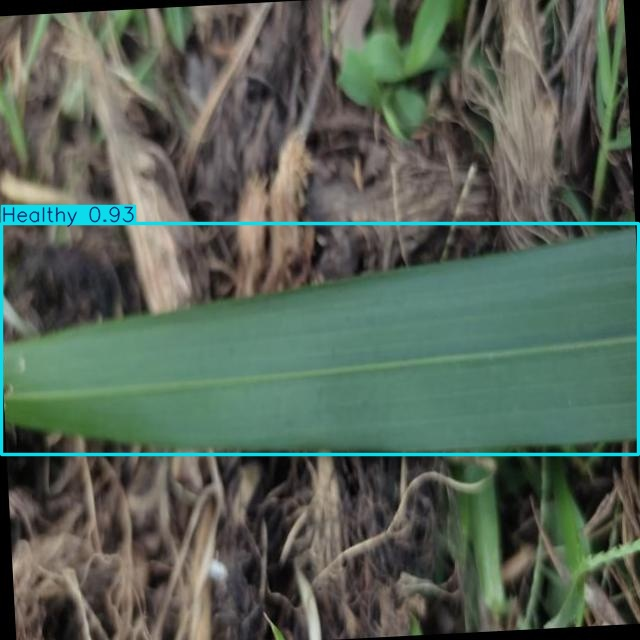Healthy: (2, 224, 638, 455)
